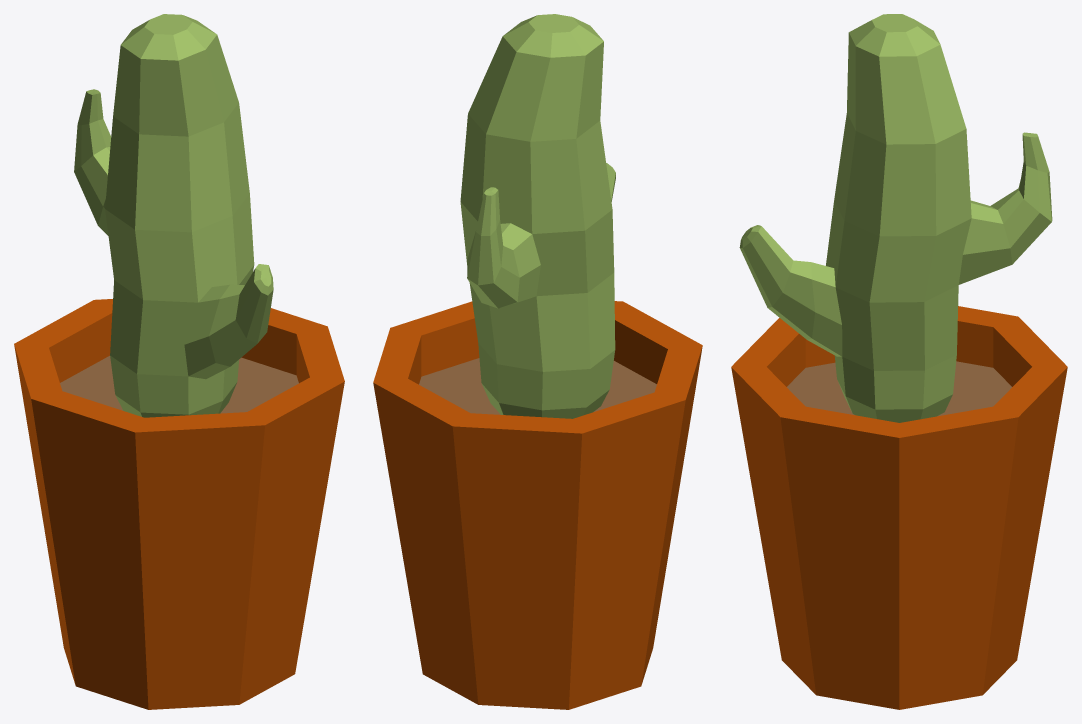
The model's file is cactus3.gltf.
3 renders of one model, left to right at view 1: azimuth 30°, elevation 25°; view 2: azimuth 150°, elevation 25°; view 3: azimuth 270°, elevation 25°, orthographic.
Parts seen in each view (by area): view 1: Cube; view 2: Cube; view 3: Cube.
Boxes of the visible parts, x1=… form: Cube: x1=14, y1=14, x2=344, y2=709; Cube: x1=373, y1=14, x2=702, y2=709; Cube: x1=731, y1=14, x2=1067, y2=709.
Bounding box in the file's own units: 2.08 × 4.3 × 2.08.
Materials: 1 (1 with a texture image).
